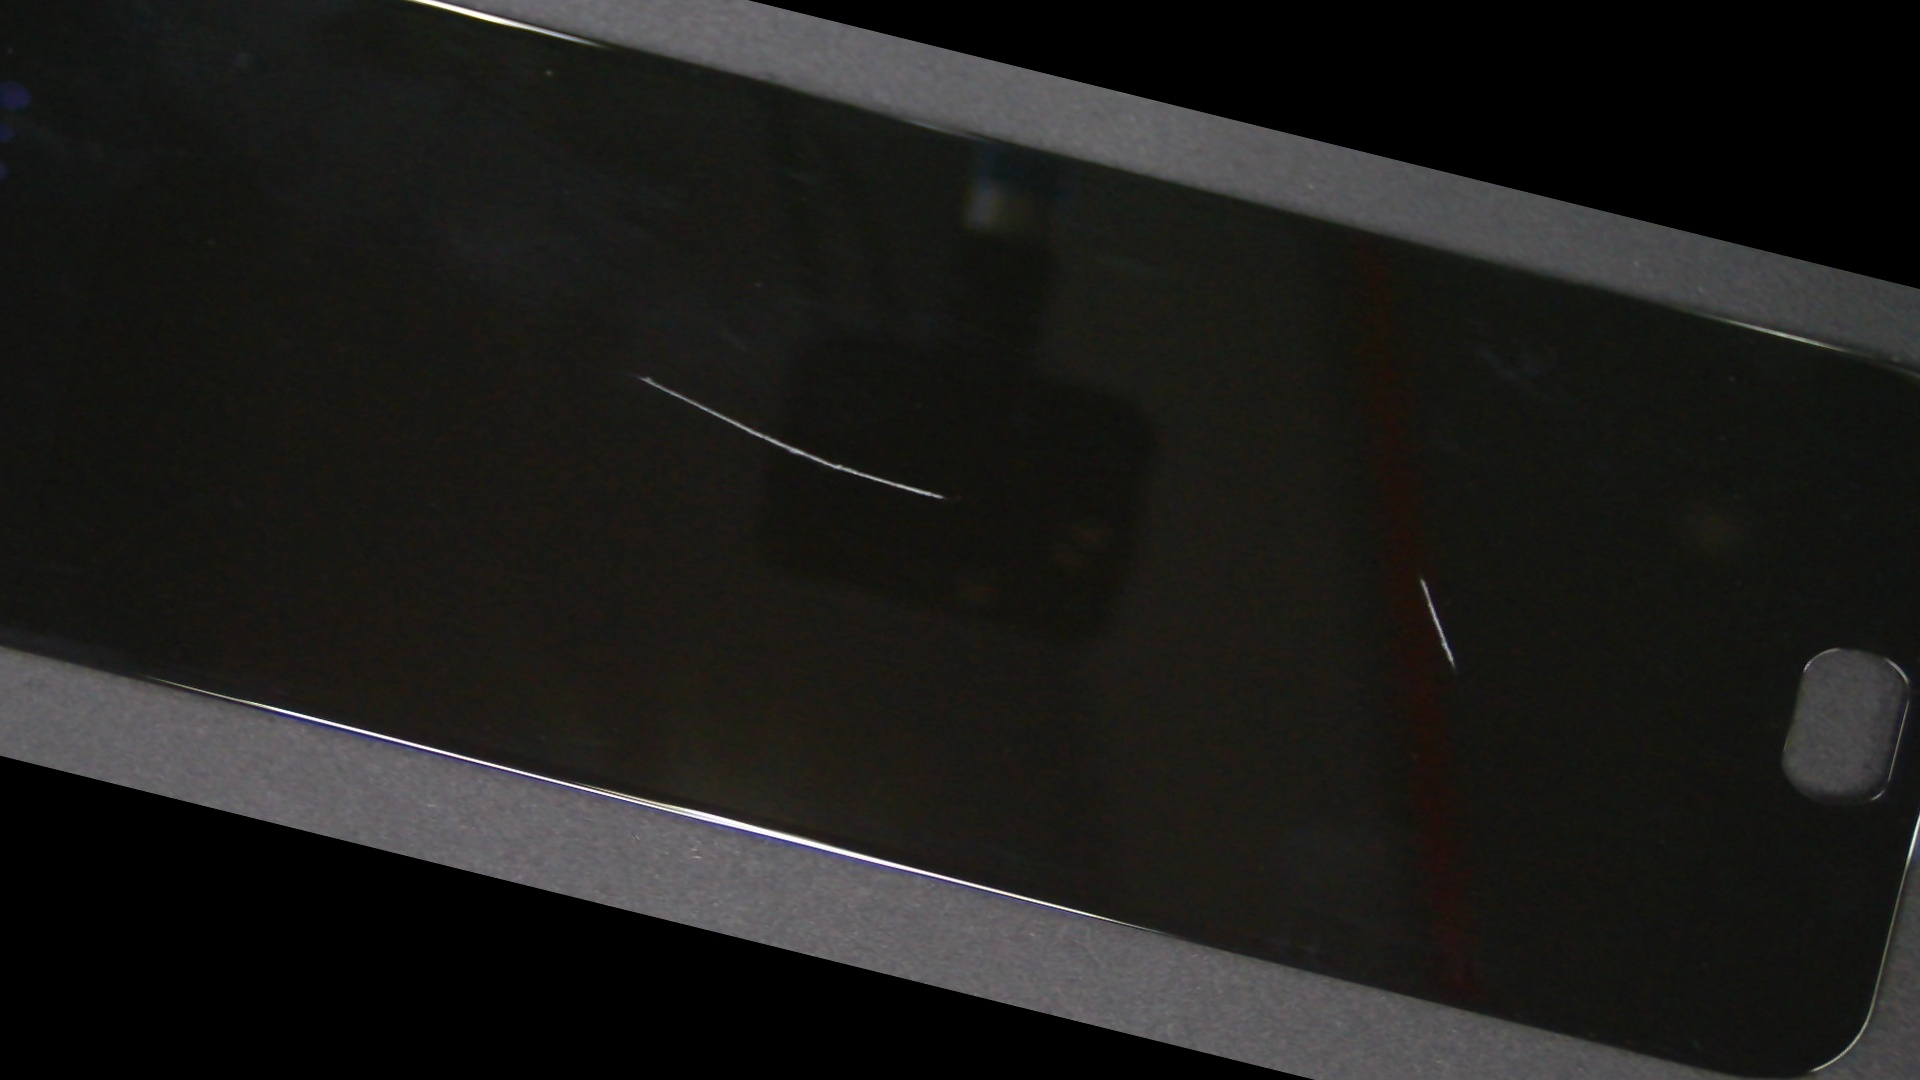oil: (593, 191, 1920, 919), (210, 90, 1087, 662)
